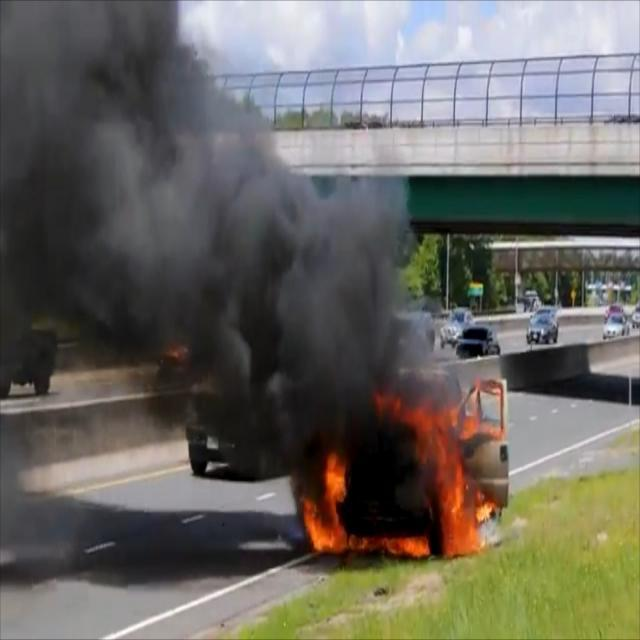fire: (304, 374, 510, 550)
